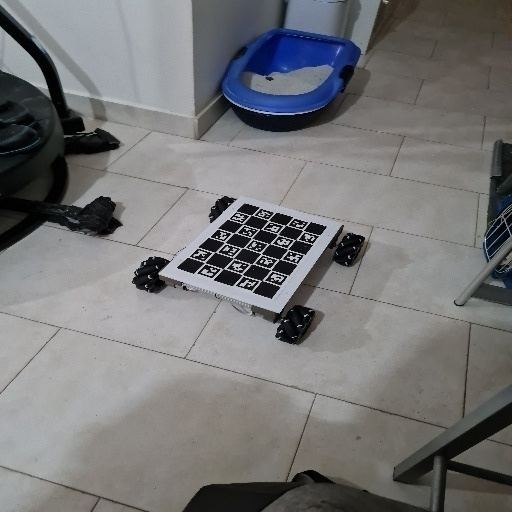Omniwheel: (133, 196, 365, 346)
